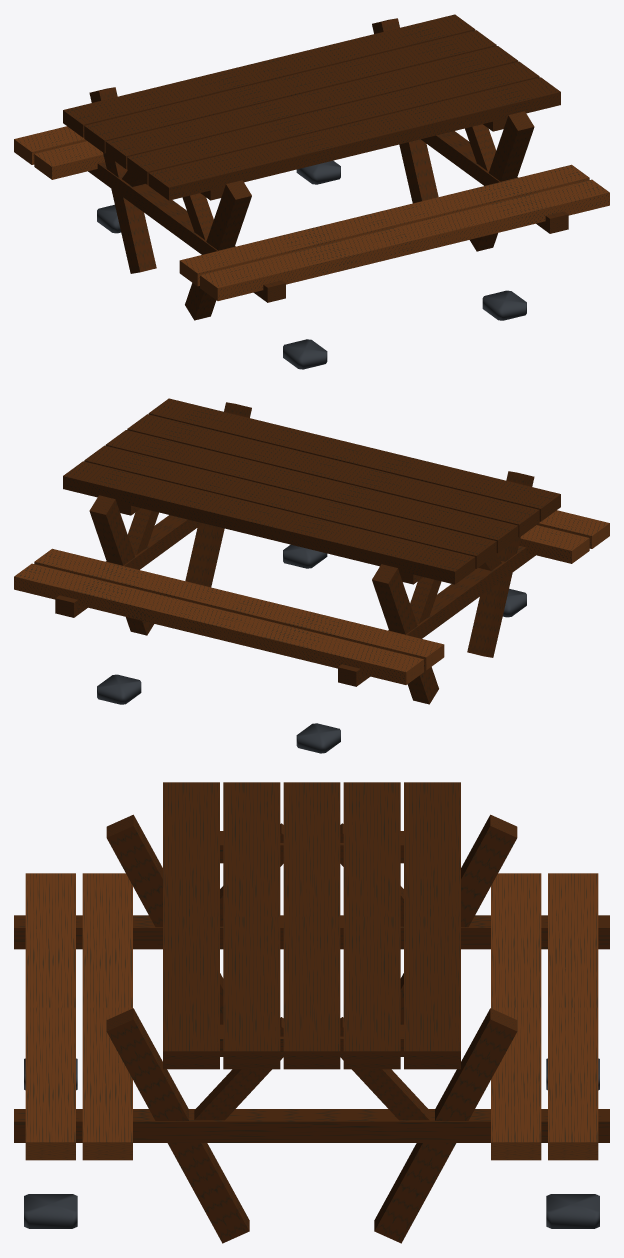
File: picnic-table.glb
3 renders of one model, top to bottom at view 1: azimuth 30°, elevation 25°; view 2: azimuth 150°, elevation 25°; view 3: azimuth 270°, elevation 25°, orthographic. The views are drawn at different scales.
Parts seen in each view (by area): view 1: Merged_city-timber, Merged_city-timber-light, Merged_city-metal-dark; view 2: Merged_city-timber, Merged_city-timber-light, Merged_city-metal-dark; view 3: Merged_city-timber, Merged_city-timber-light, Merged_city-metal-dark.
Boxes of the visible parts, box(x1,y1,x2,y2) form: Merged_city-timber: box(63, 14, 568, 320); Merged_city-timber-light: box(14, 126, 609, 300); Merged_city-metal-dark: box(97, 160, 526, 369); Merged_city-timber: box(55, 398, 560, 704); Merged_city-timber-light: box(14, 510, 609, 684); Merged_city-metal-dark: box(97, 544, 526, 753); Merged_city-timber: box(14, 782, 609, 1243); Merged_city-timber-light: box(25, 873, 598, 1160); Merged_city-metal-dark: box(24, 1058, 599, 1228).
Size of what is drawn, in the model's own units: 1.9 by 0.77 by 1.78.
3 materials, 2 textured.
